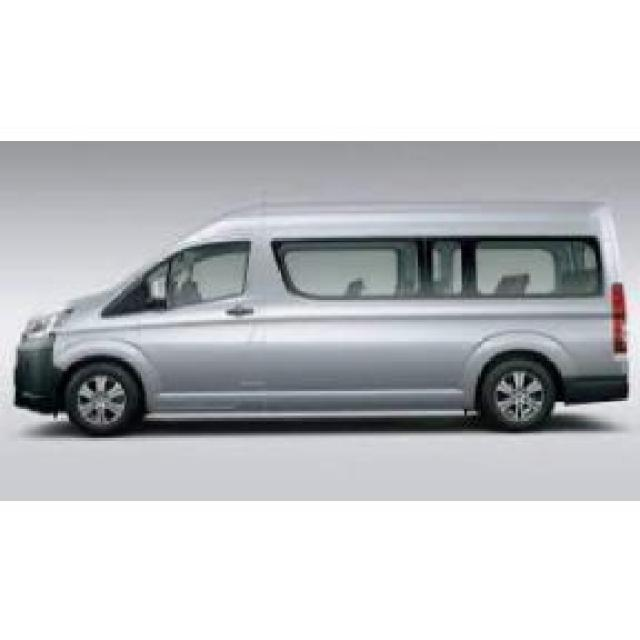Van: (16, 199, 624, 440)
